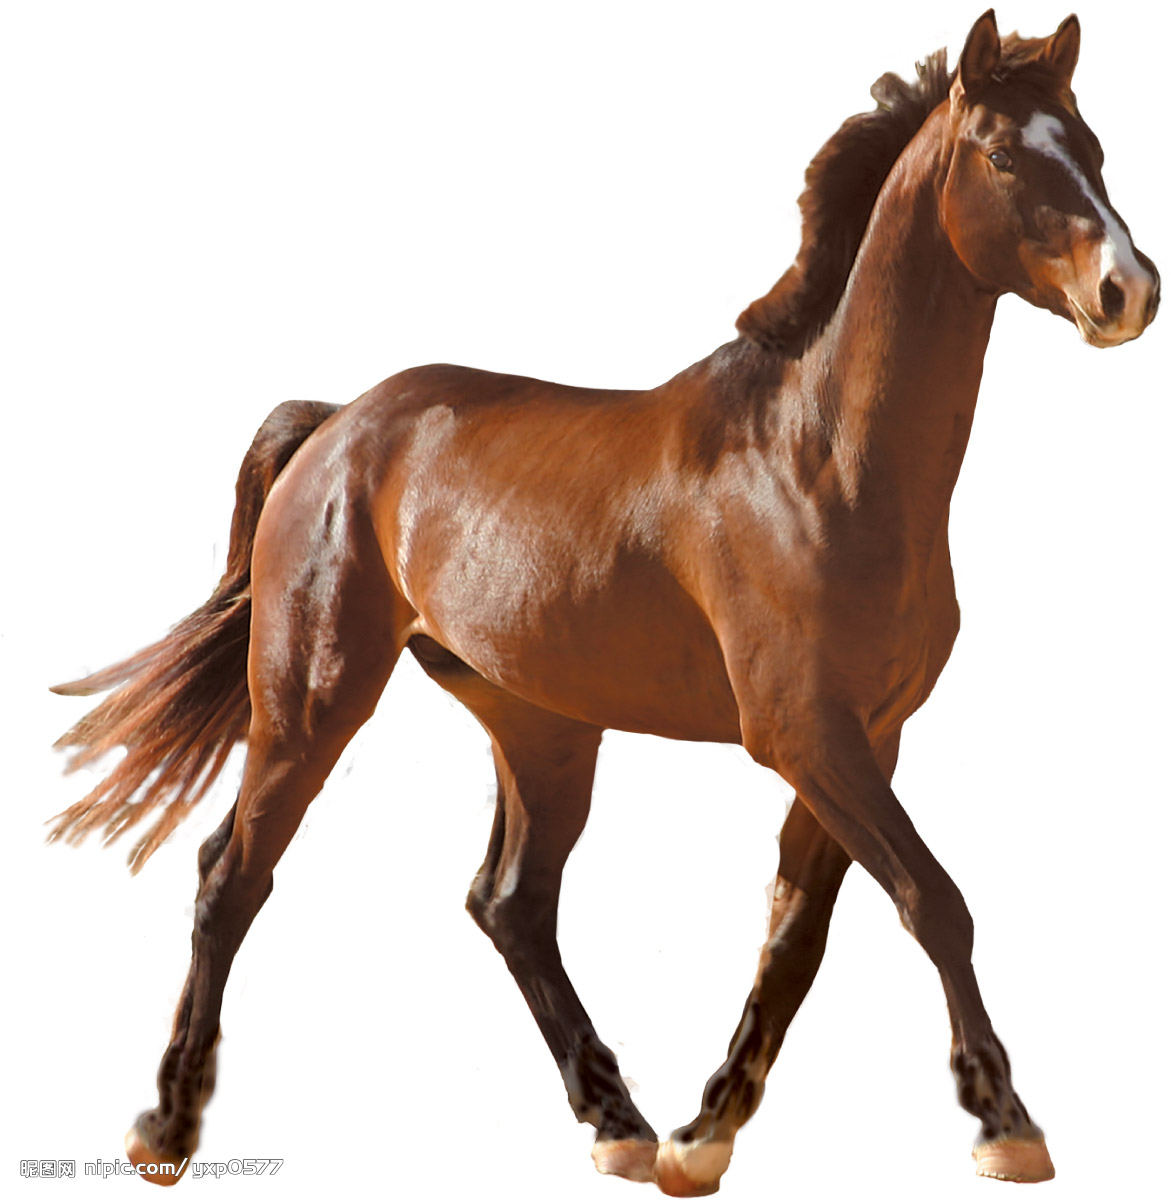horse: (51, 10, 1160, 1200)
